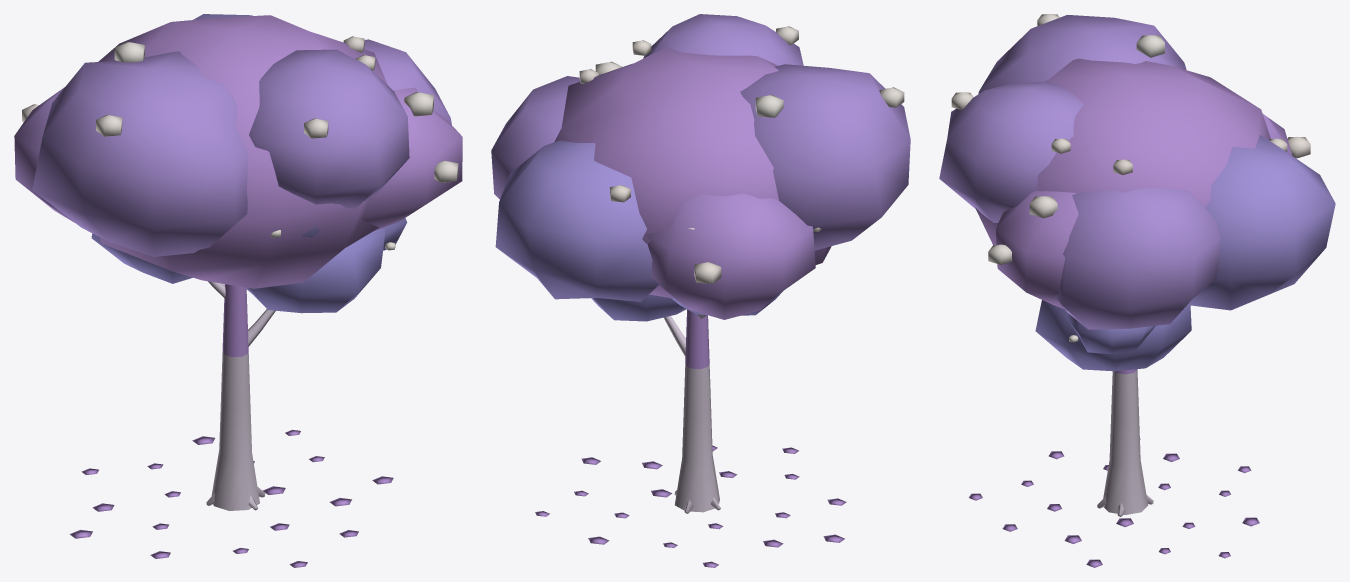
The model's file is flora_tree_lilac_fae.gltf.
The picture shows the model from 3 angles, left to right: view 1: azimuth 30°, elevation 25°; view 2: azimuth 150°, elevation 25°; view 3: azimuth 270°, elevation 25°; orthographic projection. The views are drawn at different scales.
Visible parts, largest first — view 1: flora_tree_lilac_fae; view 2: flora_tree_lilac_fae; view 3: flora_tree_lilac_fae.
Part boxes in pixels (x1,y1,x2,y2): flora_tree_lilac_fae: [14, 14, 462, 567]; flora_tree_lilac_fae: [491, 14, 910, 567]; flora_tree_lilac_fae: [939, 14, 1335, 567].
Size of what is drawn, in the model's own units: 7.5 by 8.33 by 6.95.
